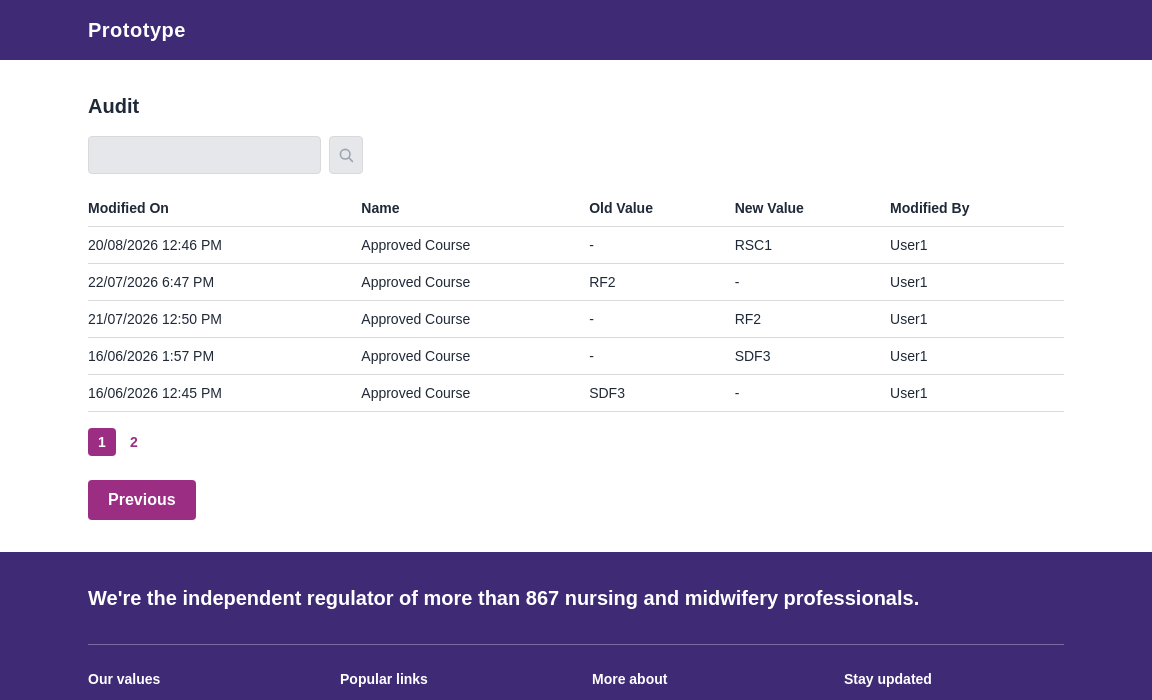
Test: ViewAuditsPage › paginates to a second page for a pin with more than one page of audit rows
Expected: the cell "RSC1" is shown, [735,226,890,264]
Expected: the text "RAN" is not shown
Step 1. Click the button "2" → (134, 442), box [120,428,148,456]
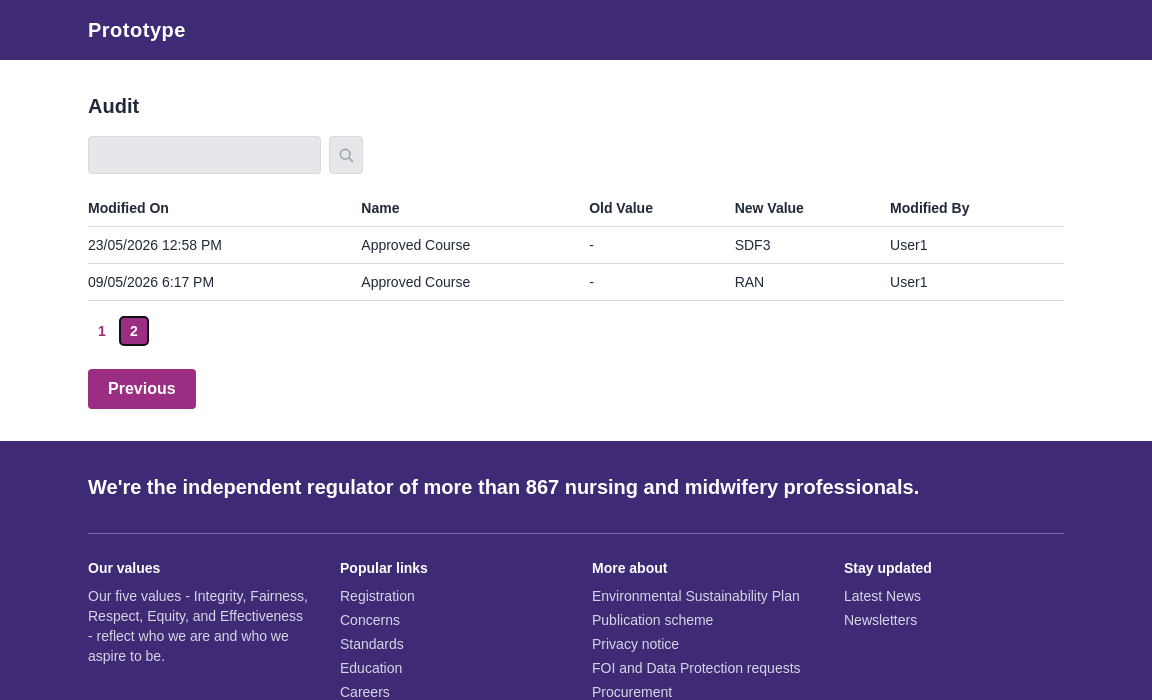
Result: the cell "RAN" is shown at [735,264,890,300]
